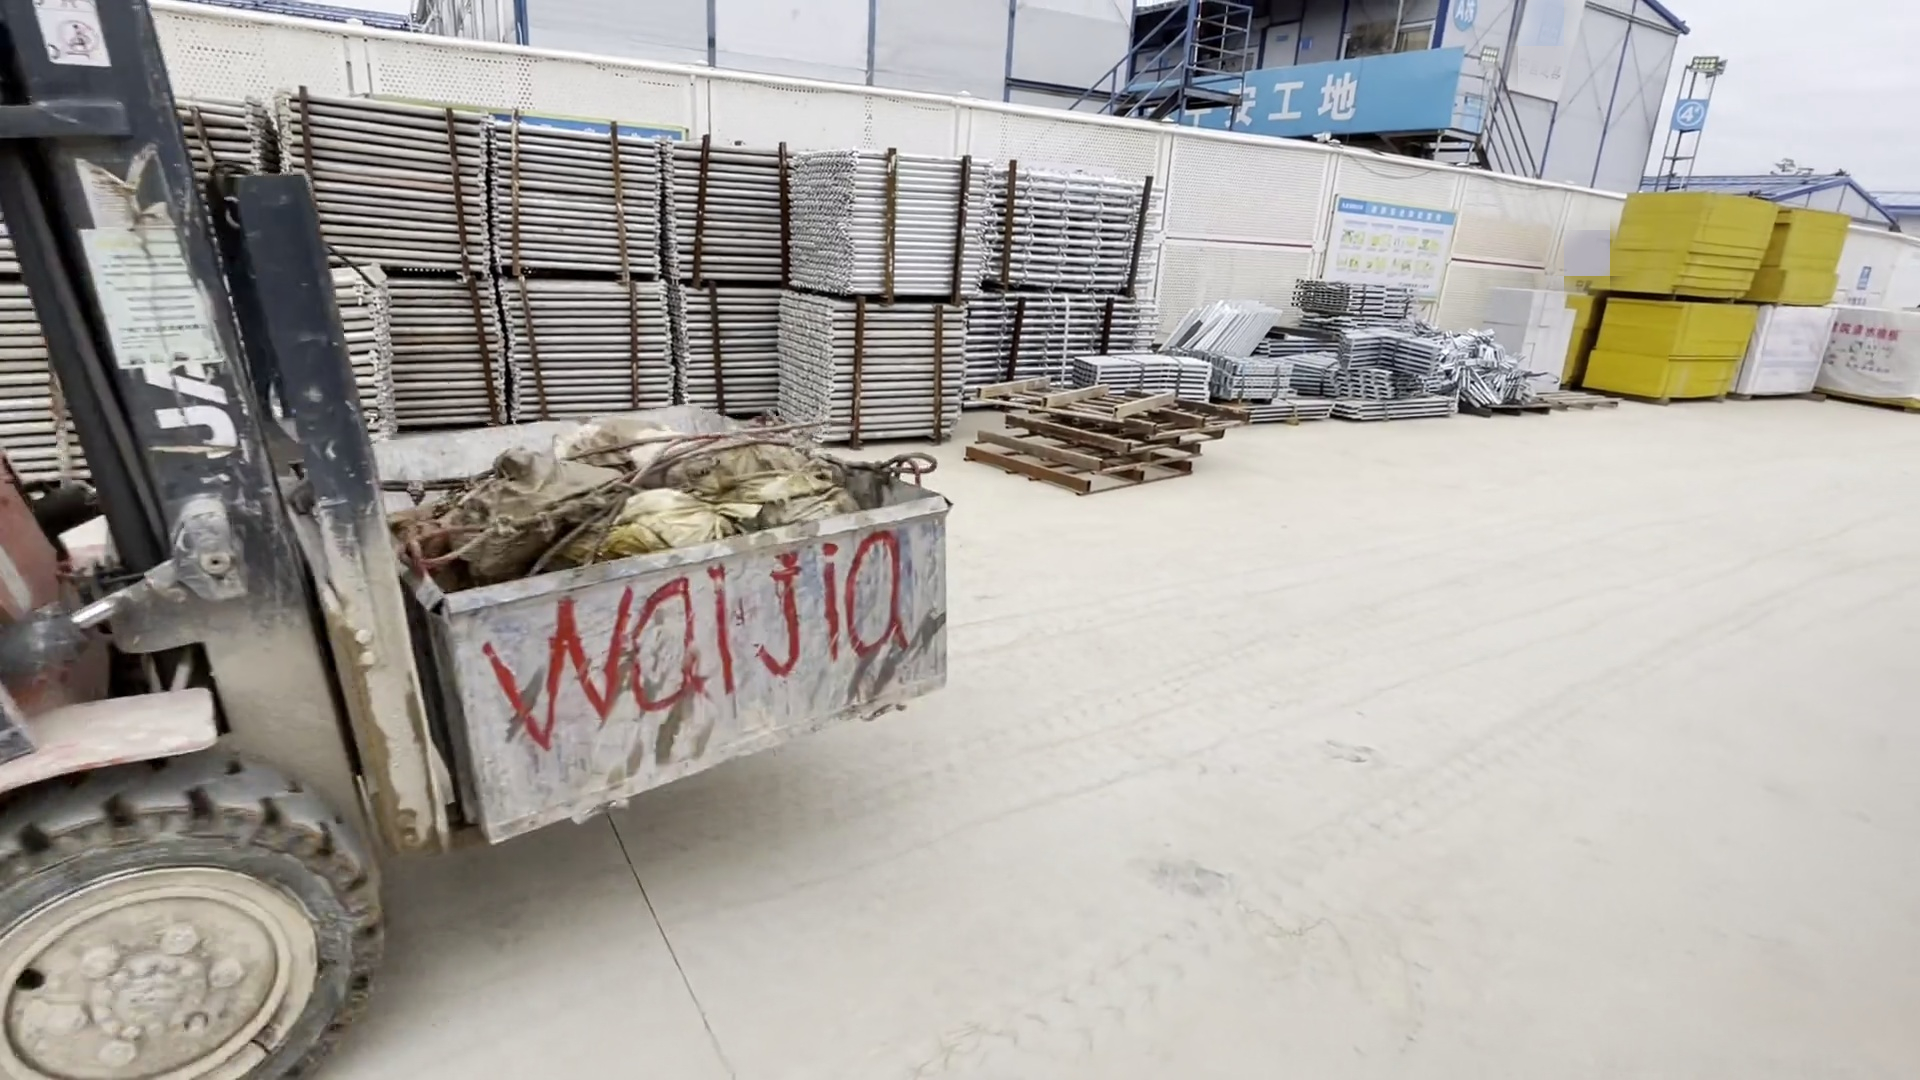board: (1596, 190, 1774, 422)
scaffold: (343, 117, 1135, 429), (1138, 280, 1575, 435)
